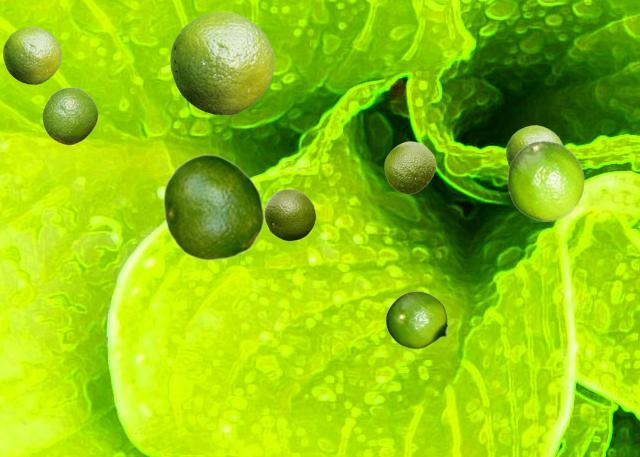calamansi: (162, 153, 264, 260), (170, 11, 273, 114), (507, 140, 584, 220), (385, 291, 454, 348), (3, 26, 60, 83), (42, 87, 97, 144), (264, 188, 315, 240), (384, 141, 435, 193), (506, 125, 562, 165)
